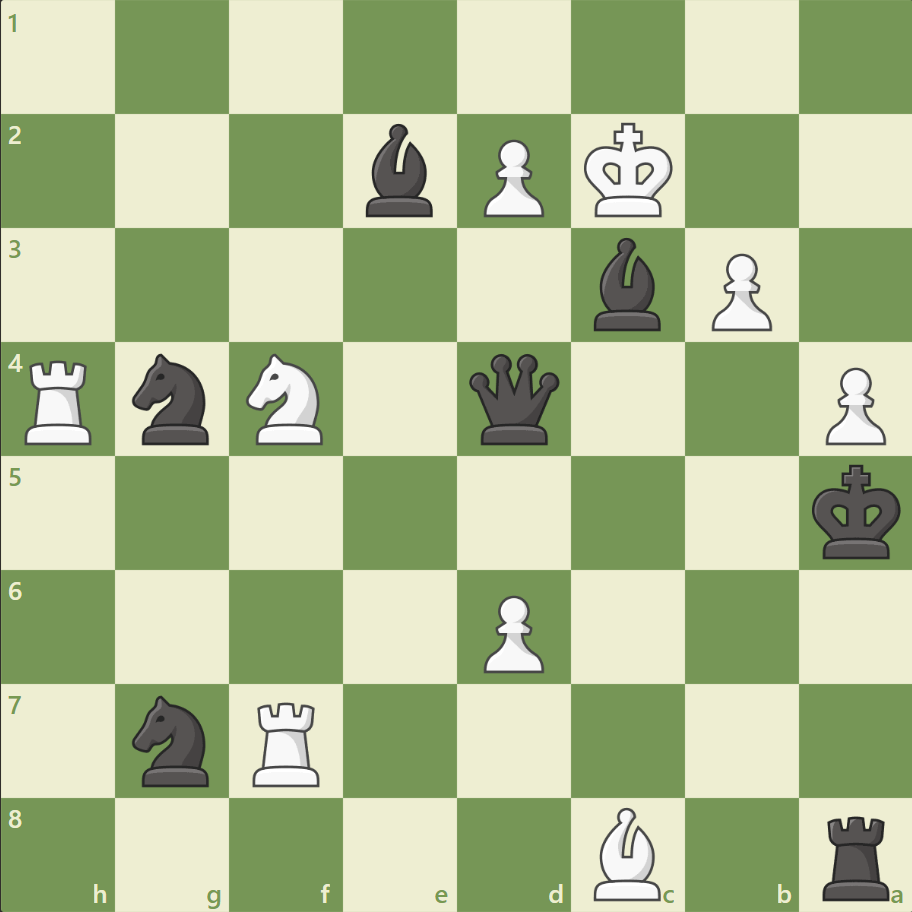B: (585, 801, 669, 904)
K: (579, 117, 679, 225)
N: (238, 348, 335, 450)
P: (474, 586, 549, 677), (701, 246, 776, 337), (474, 132, 549, 223), (815, 359, 889, 450)
R: (246, 693, 329, 790), (19, 352, 102, 449)
b: (585, 233, 669, 336), (358, 120, 442, 222)
k: (806, 458, 906, 566)
n: (124, 688, 222, 791), (124, 348, 222, 450)
q: (464, 349, 563, 449)
r: (814, 806, 897, 904)
